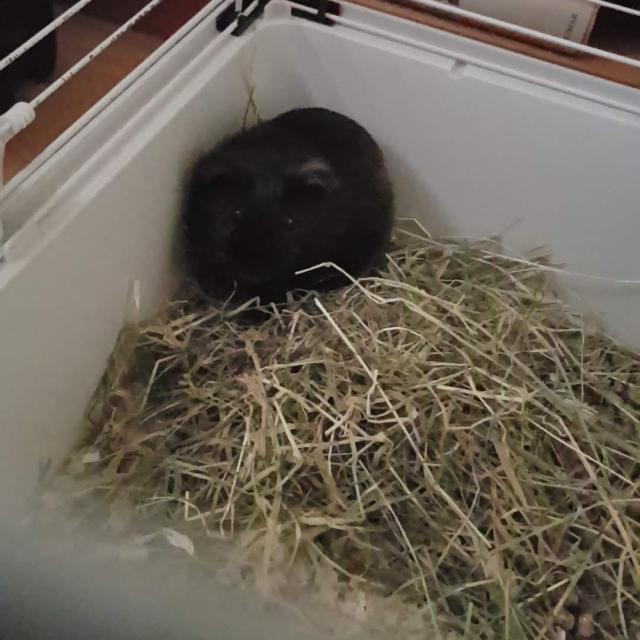guinea pig: (185, 104, 396, 306)
